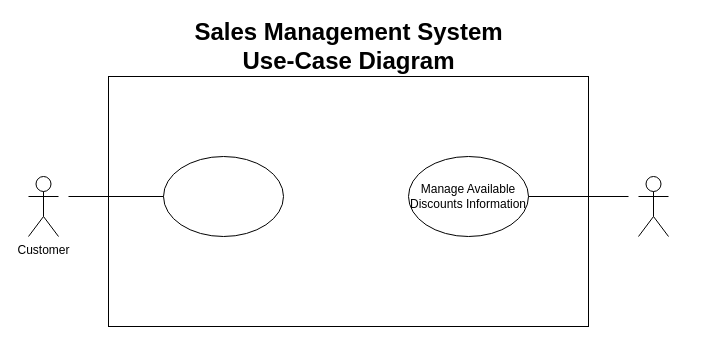
Image size: 704x344. Some labels were removed from this diagram. The centre of each missing label's shape, as x and y in pixels:
"Search Available Discounts" goes at [223,196].
"Store Owner" goes at [653,206].
